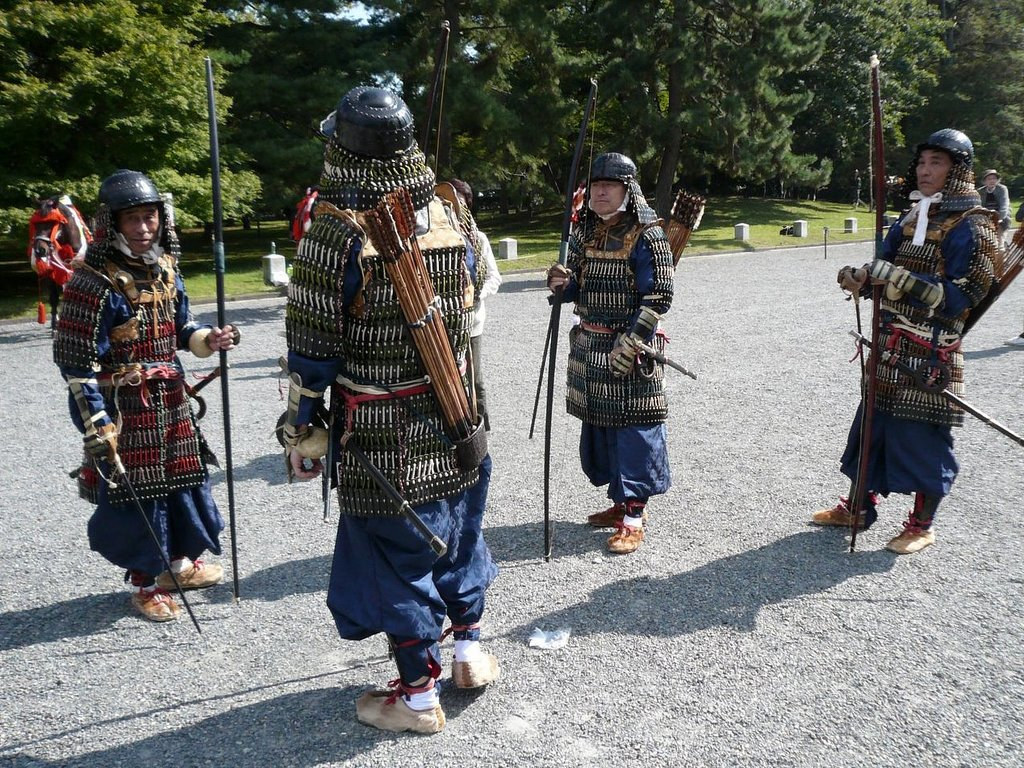Person: (51, 86, 1023, 733)
